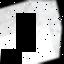Morning glory: (0, 22, 58, 64)
